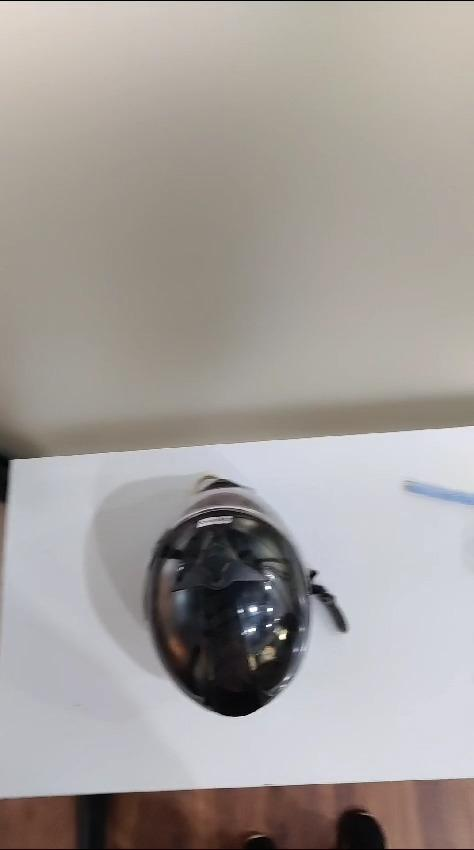Helmet: (144, 476, 347, 716)
